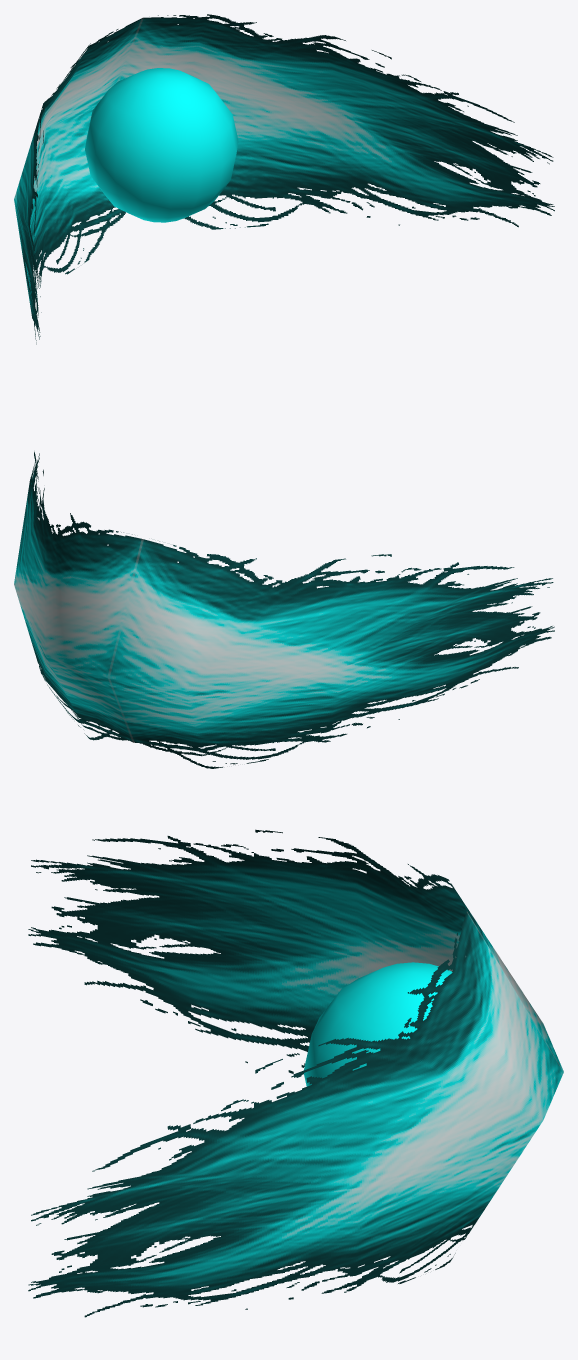
Rendered from TeleportOrb.gltf.
3 views of the same model, one above another, from view 1: azimuth 30°, elevation 25°; view 2: azimuth 150°, elevation 25°; view 3: azimuth 270°, elevation 25° (orthographic). The views are drawn at different scales.
Visible parts, largest first — view 1: OrbFront, Orb; view 2: OrbFront; view 3: OrbFront, Orb.
Boxes of the visible parts, bbox=[...] form: OrbFront: bbox=[14, 14, 554, 344]; Orb: bbox=[85, 68, 238, 222]; OrbFront: bbox=[14, 451, 554, 768]; OrbFront: bbox=[28, 829, 563, 1317]; Orb: bbox=[304, 962, 452, 1086].
Size of the model in its own units: 0.7789 by 0.3289 by 0.5013.
2 materials, 1 textured.
